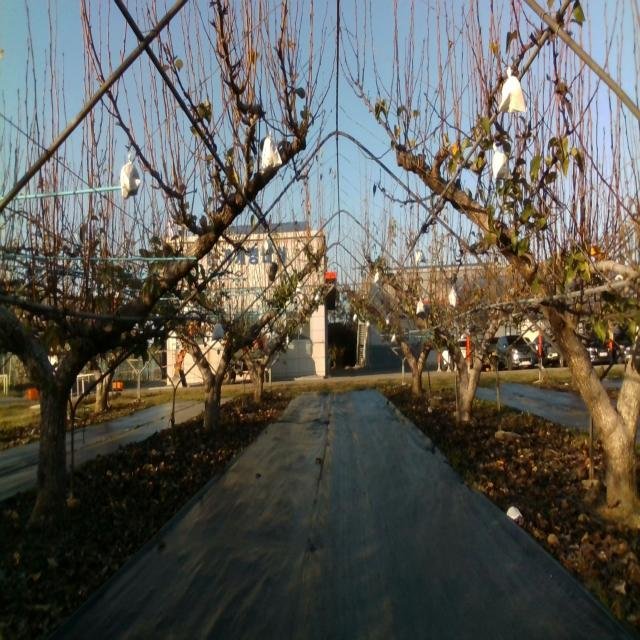pearbags: (498, 65, 528, 117), (119, 150, 140, 197), (490, 140, 512, 182), (261, 135, 282, 174), (262, 235, 274, 254), (212, 322, 224, 339)
